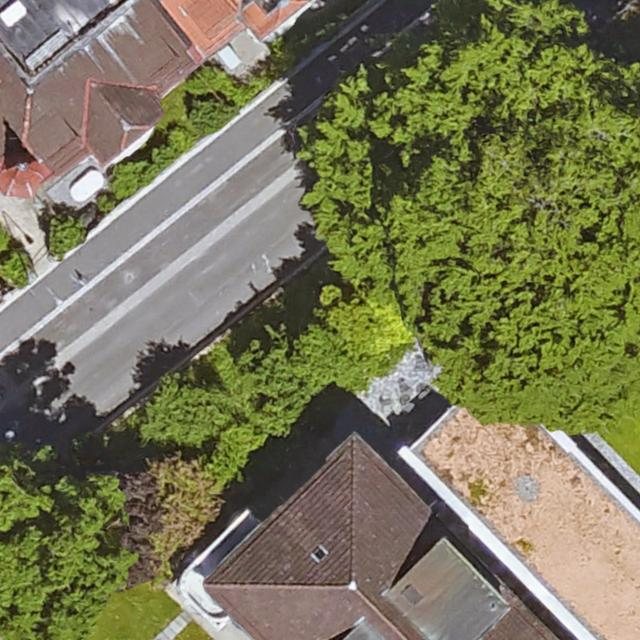tree: (305, 0, 640, 419), (0, 458, 124, 640), (127, 454, 221, 572), (305, 292, 405, 379), (238, 326, 321, 428), (128, 378, 226, 447)
